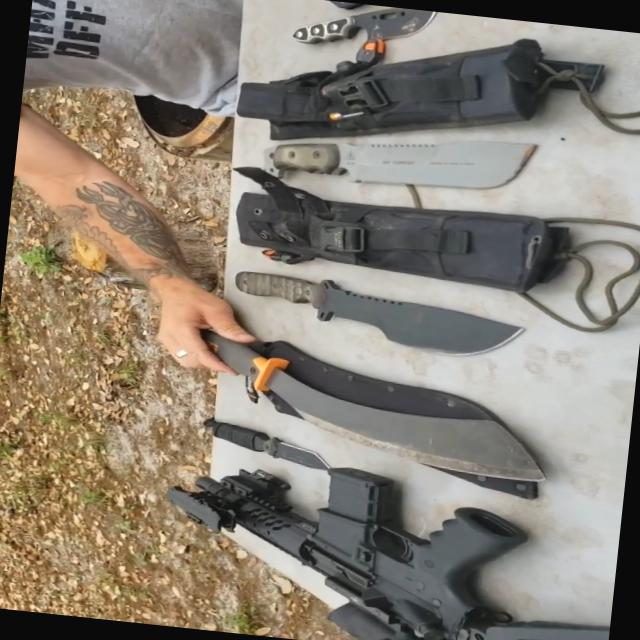knife: (165, 318, 532, 494), (209, 252, 521, 376), (232, 106, 530, 212), (190, 404, 335, 488), (261, 0, 445, 58)
long weapon: (141, 440, 604, 639)
